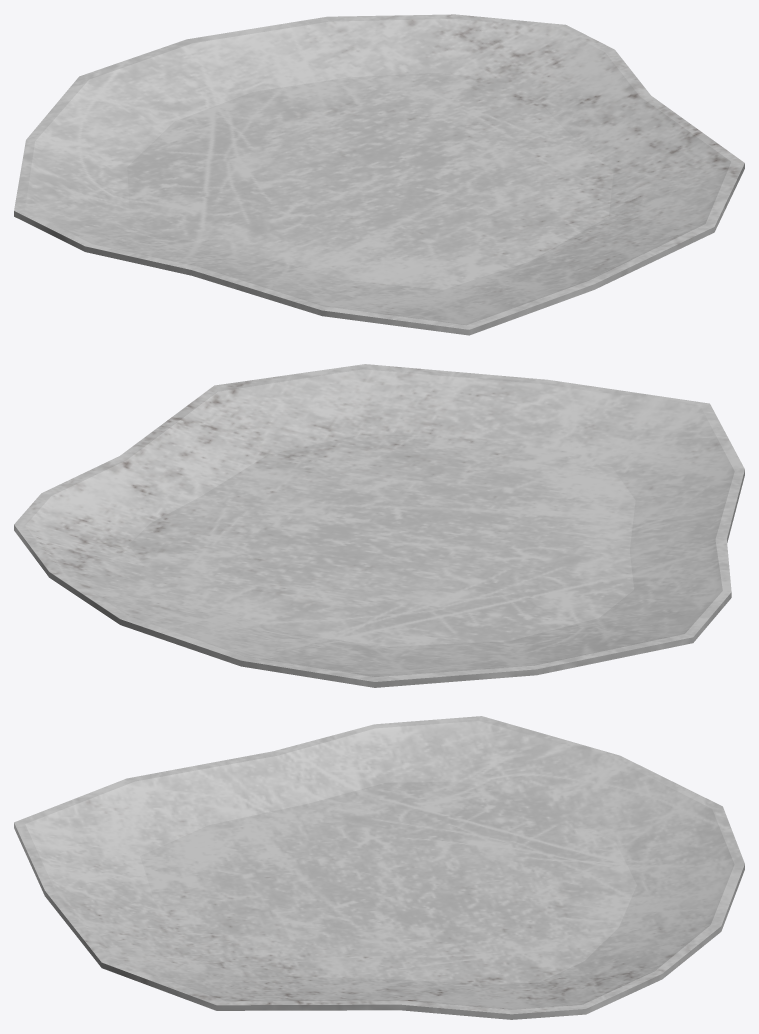
File: plate_3.fbx
3 views of the same model, one above another, from view 1: azimuth 30°, elevation 25°; view 2: azimuth 150°, elevation 25°; view 3: azimuth 270°, elevation 25° (orthographic). The views are drawn at different scales.
Parts seen in each view (by area): view 1: Plate_low; view 2: Plate_low; view 3: Plate_low.
Part boxes in pixels (left/top/right/bottom): Plate_low: left=14, top=14, right=744, bottom=335; Plate_low: left=14, top=364, right=744, bottom=687; Plate_low: left=14, top=716, right=744, bottom=1019.
Size of the model in its own units: 26.81 by 0.9354 by 27.77.
